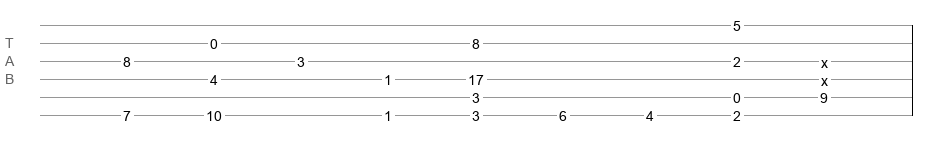0: (210, 36, 218, 46), (733, 90, 741, 100)
1: (384, 72, 392, 82), (384, 108, 392, 118)
10: (206, 108, 222, 118)
17: (468, 72, 484, 82)
2: (733, 54, 741, 64), (733, 108, 741, 118)
3: (297, 54, 305, 64), (472, 108, 480, 118), (472, 90, 480, 100)
4: (210, 72, 218, 82), (646, 108, 654, 118)
5: (733, 18, 741, 28)
6: (559, 108, 567, 118)
7: (123, 108, 131, 118)
8: (123, 54, 131, 64), (472, 36, 480, 46)
9: (820, 90, 828, 100)
x: (821, 73, 828, 81), (821, 55, 828, 63)
